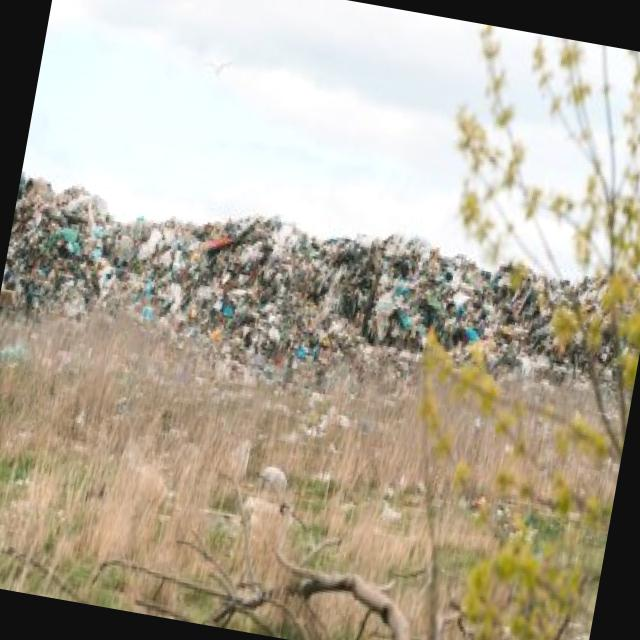garbage: (0, 158, 634, 430)
